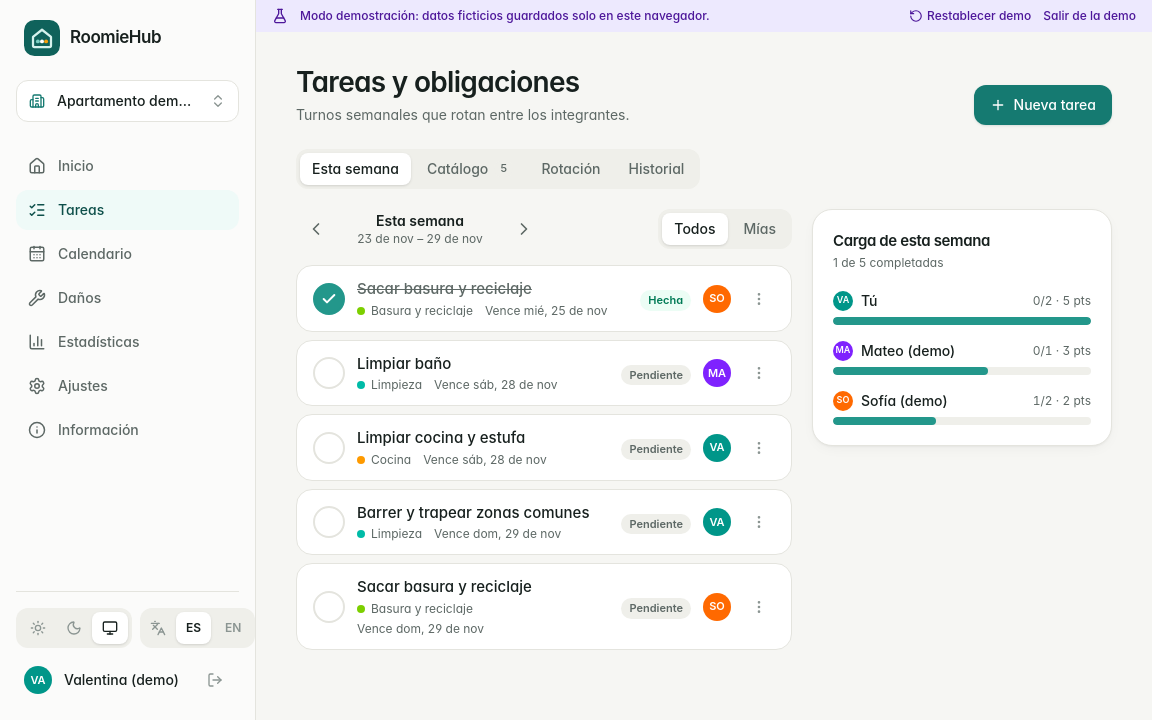
Test case: chores › creates a chore that immediately gets an assignee this week
The image size is (1152, 720).
Expected: the heading "Tareas y obligaciones" is shown, [296,64,630,101]
Click the button "Nueva tarea" at (1043, 105), box [974,85,1112,125]
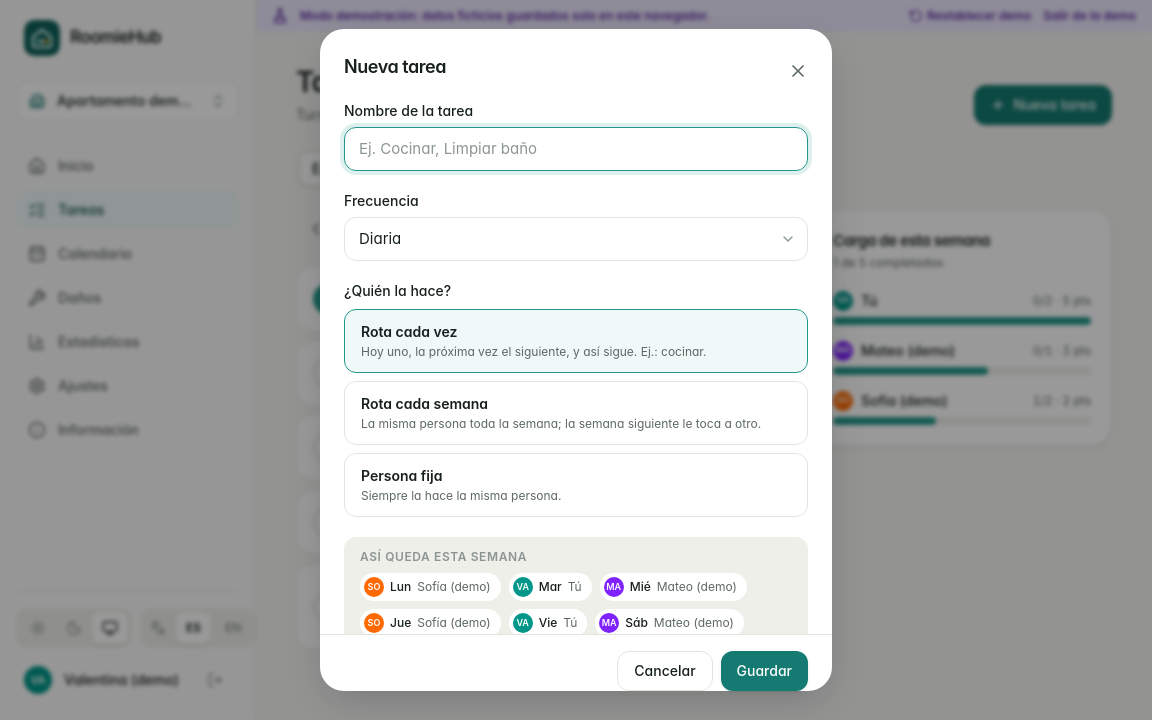
Type "Regar las plantas" into the field labelled "Nombre de la tarea" at (576, 149), box [344,127,808,171]
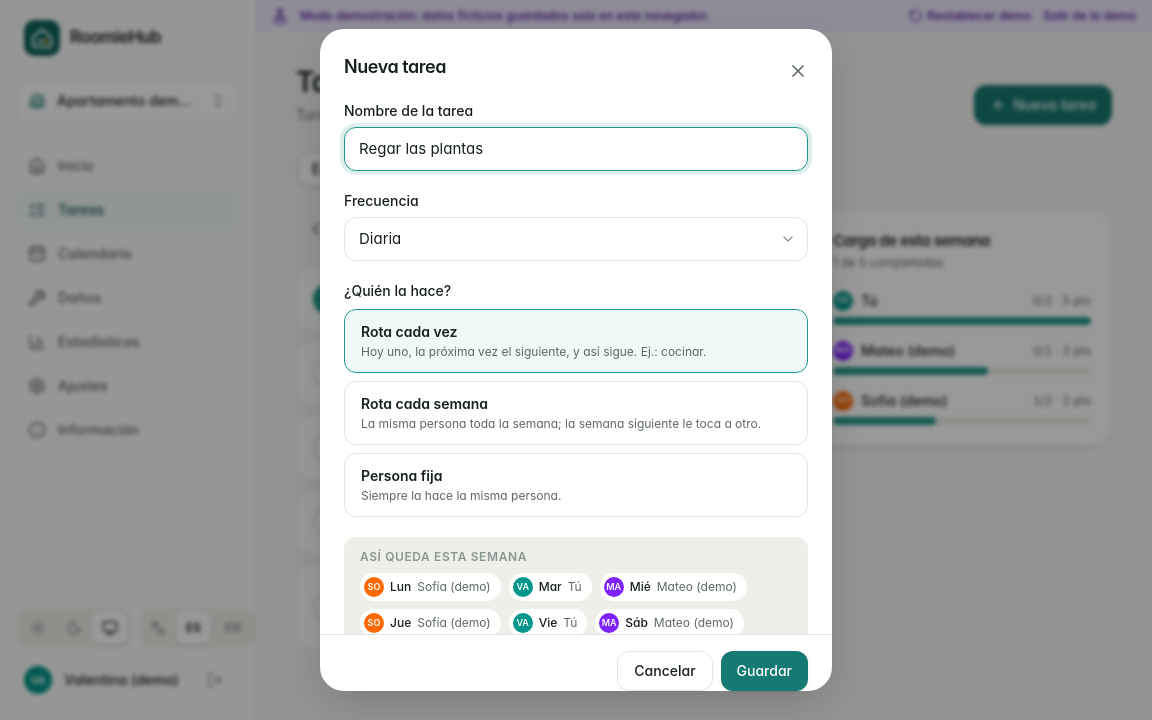
Click the button "Guardar" at (764, 671), box [721,651,808,691]
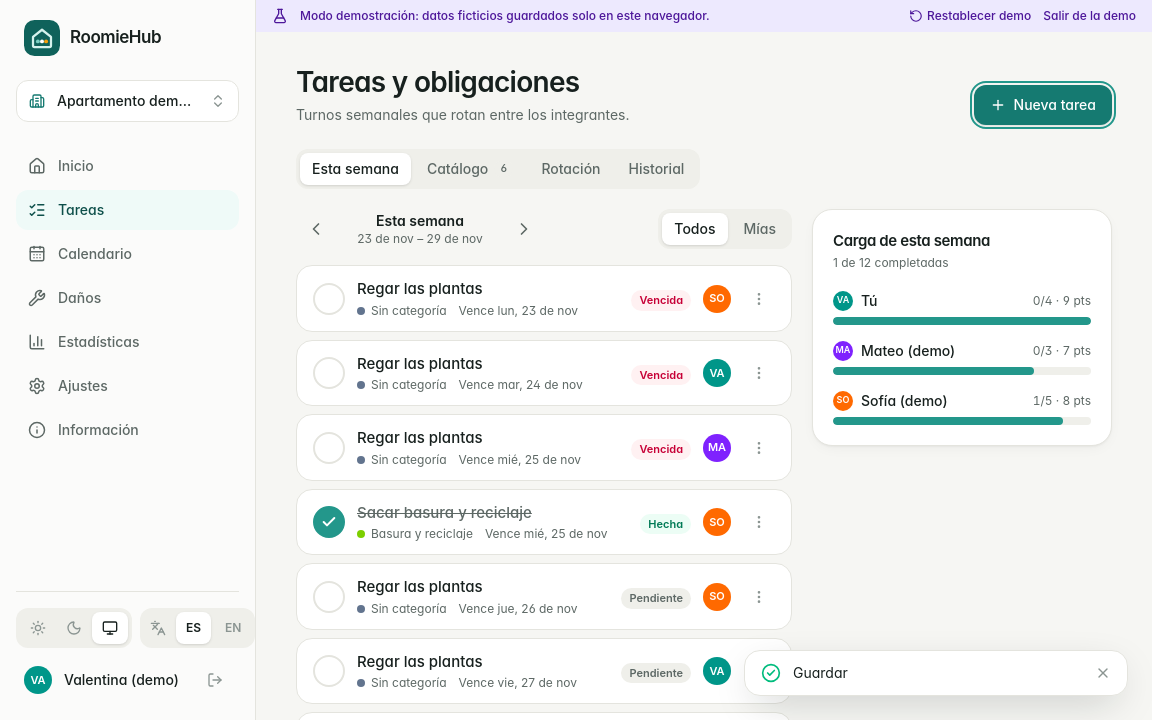
Now the dialog is gone
